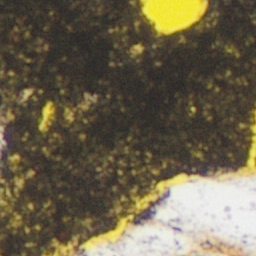air_pores: (140, 0, 206, 34)
cement_matrix: (0, 0, 255, 255), (42, 106, 53, 125)
cracks: (46, 119, 255, 255), (201, 241, 248, 255), (43, 107, 52, 124)
gravel_crushed_stones: (83, 174, 255, 255), (0, 123, 3, 151)
